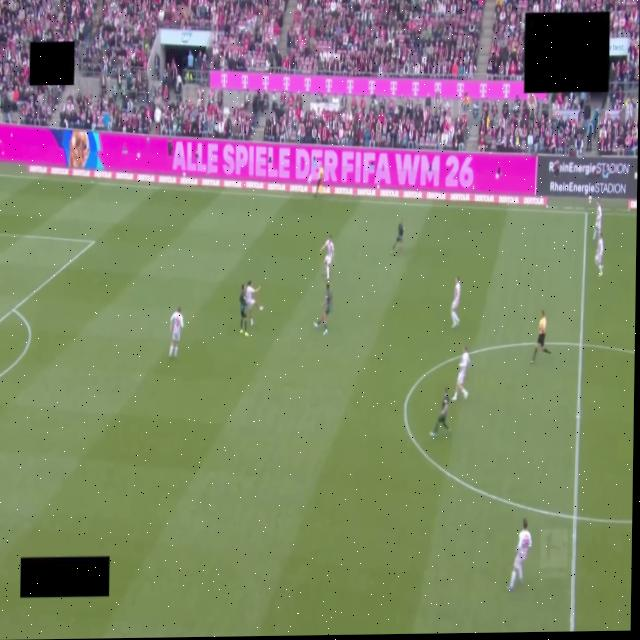player: (508, 519, 532, 590), (430, 387, 450, 437), (452, 346, 470, 400), (314, 283, 332, 334), (246, 281, 262, 325), (320, 235, 334, 280), (170, 308, 183, 356), (451, 277, 461, 328), (239, 284, 248, 336), (392, 218, 404, 253), (595, 232, 603, 276), (593, 201, 602, 239)
referee: (532, 311, 551, 362)
